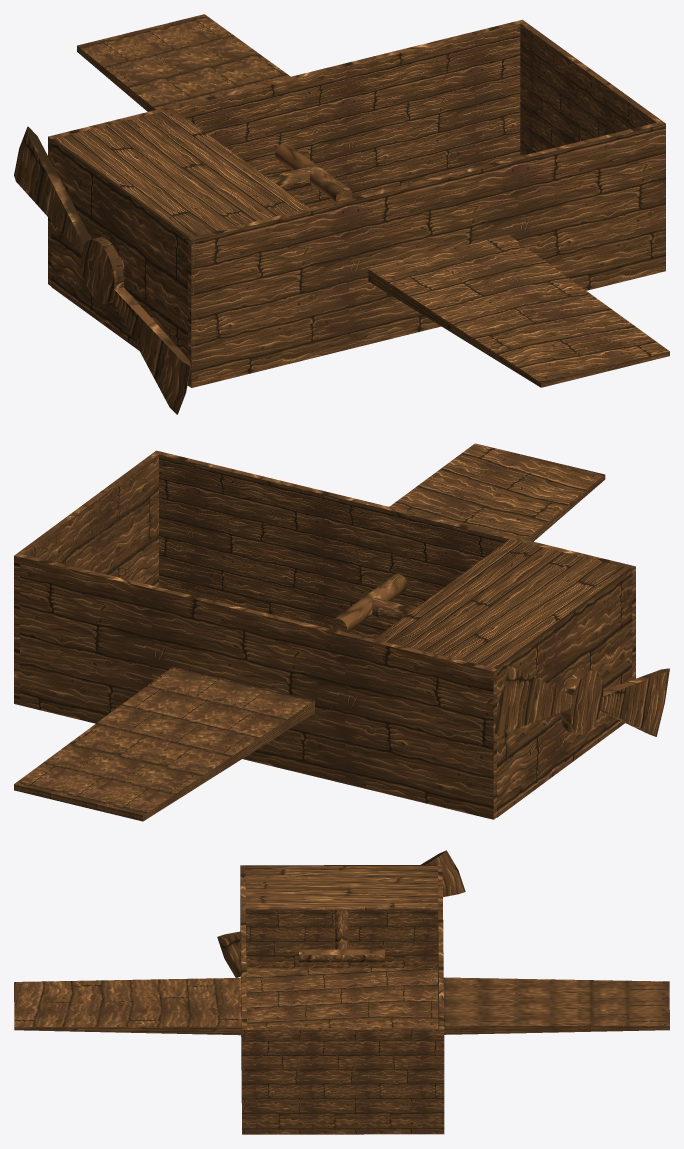
File: PlaneV1.fbx
The picture shows the model from 3 angles, top to bottom: view 1: azimuth 30°, elevation 25°; view 2: azimuth 150°, elevation 25°; view 3: azimuth 270°, elevation 25°; orthographic projection. The views are drawn at different scales.
Visible parts, largest first — view 1: Cube.001, Cube.003, Cube.002, Propel, Cylinder, Cylinder.002; view 2: Cube.001, Cube.002, Cube.003, Propel, Cylinder, Cylinder.002; view 3: Cube.001, Cube.003, Cube.002, Propel, Cylinder, Cylinder.002.
Part boxes in pixels (<box>): Cube.001: <box>48,19,665,387</box>; Cube.003: <box>368,234,669,387</box>; Cube.002: <box>77,14,290,111</box>; Propel: <box>14,126,190,414</box>; Cylinder: <box>275,143,352,201</box>; Cylinder.002: <box>267,167,311,191</box>; Cube.001: <box>14,450,635,819</box>; Cube.002: <box>14,666,314,821</box>; Cube.003: <box>389,443,605,541</box>; Propel: <box>494,666,669,736</box>; Cylinder: <box>330,574,407,632</box>; Cylinder.002: <box>370,598,415,622</box>; Cube.001: <box>240,865,444,1134</box>; Cube.003: <box>14,978,241,1035</box>; Cube.002: <box>443,977,669,1034</box>; Propel: <box>217,850,465,977</box>; Cylinder: <box>299,949,384,962</box>; Cylinder.002: <box>335,910,348,949</box>.
Size of the model in its own units: 424 by 146 by 682.
